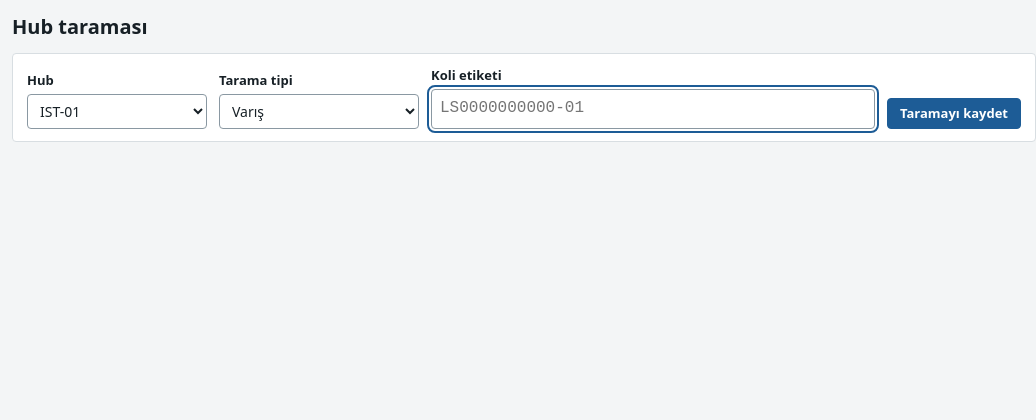
it: hub tarama ekranı › yanıt kaybında aynı tarama kimliği ve zamanıyla yeniden gönderir (çift kayıt oluşmaz)
Type "LS4829105735-01" into the field labelled "Koli etiketi".
click(653, 109); type("LS4829105735-01")  # box [431,89,875,129]
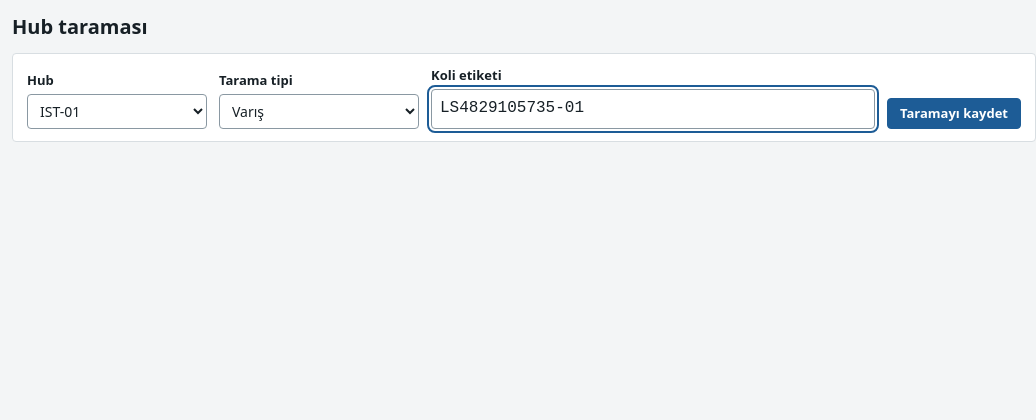
Click the button "Taramayı kaydet".
click(954, 113)  # box [887,98,1021,129]
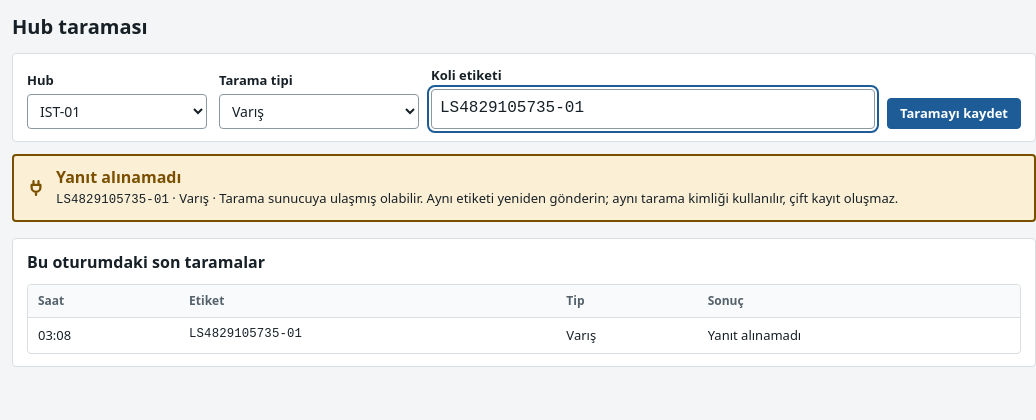
Result: the text "Yanıt alınamadı" is shown at [56,166,181,188]
Click the button "Taramayı kaydet".
click(954, 113)  # box [887,98,1021,129]
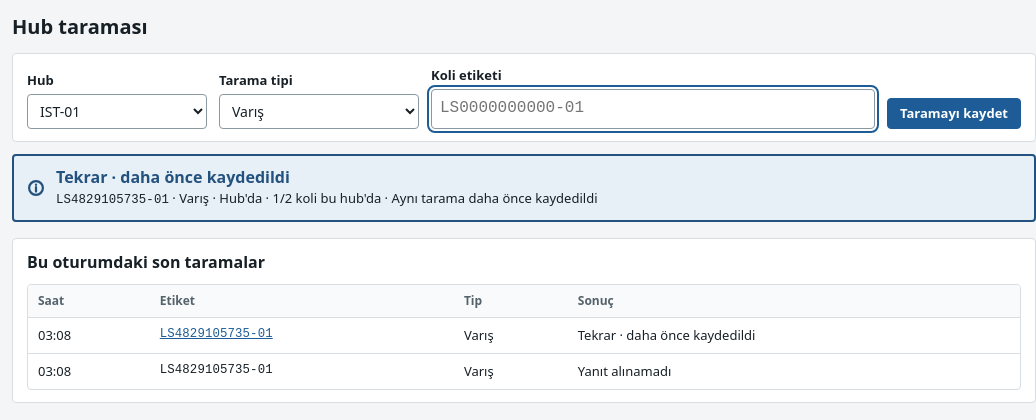
Result: the text "Tekrar · daha önce kaydedildi" is shown at [56,166,290,188]
